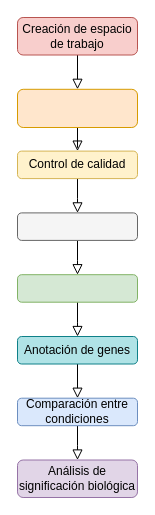
Some shapes in this 155 by 515 pixel diagram are drawn without their labels. Each missing label, with the box of its shape:
Descarga de los datos: (16, 88, 138, 128)
Normalización: (16, 274, 138, 302)
Prefiltrado: (16, 212, 138, 240)
